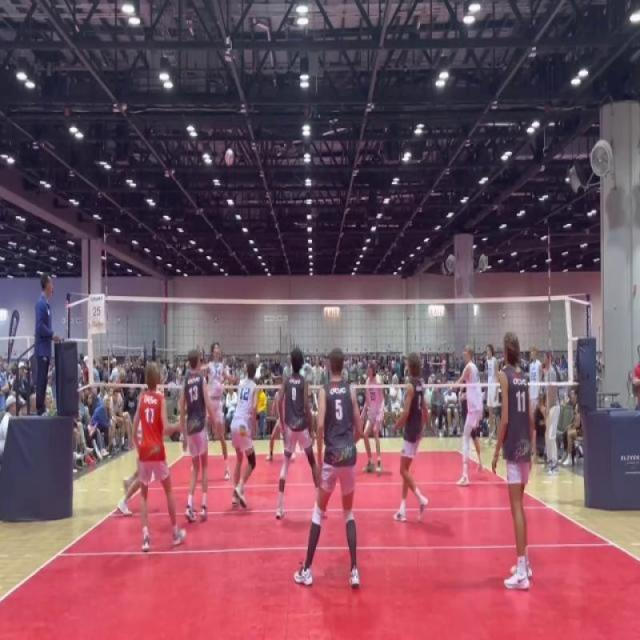volleyball: (222, 146, 235, 169)
